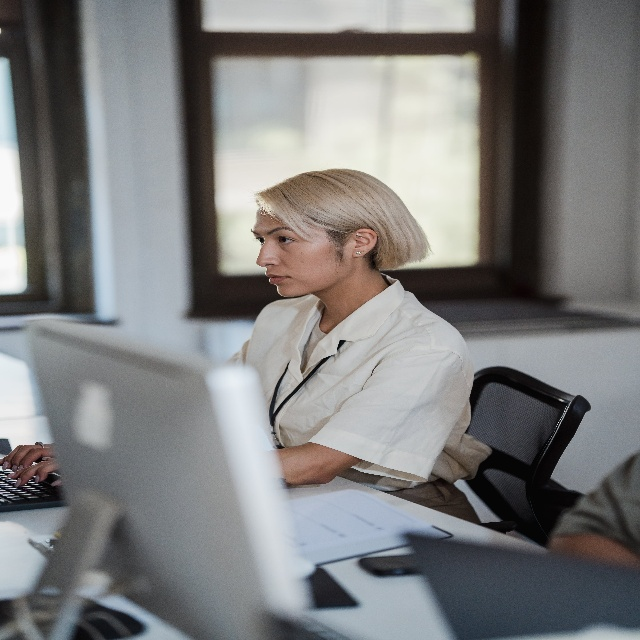Sin_guantes: (3, 446, 55, 469), (15, 466, 63, 490)
